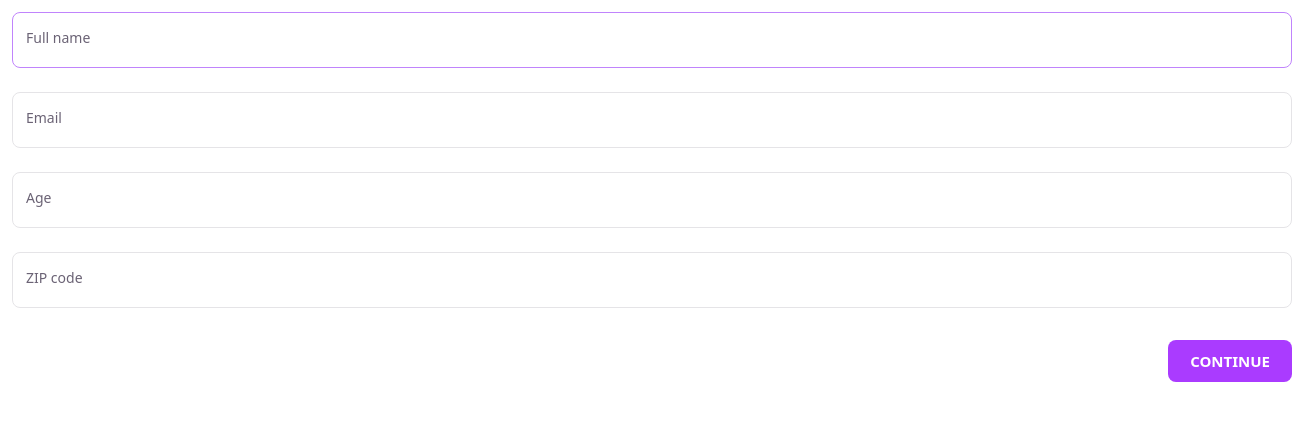
Scenario: PersonalForm › given_emptyName_when_blurred_then_showsValidationError
The image size is (1304, 422).
Click the field labelled "Full name". click: (652, 40)
box: x1=12 y1=12 x2=1292 y2=68
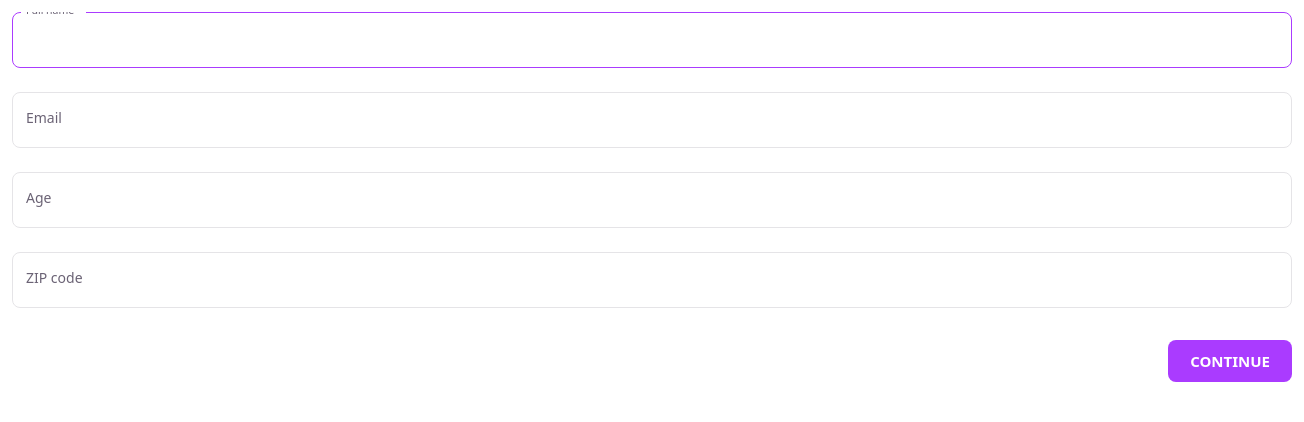
Press Tab
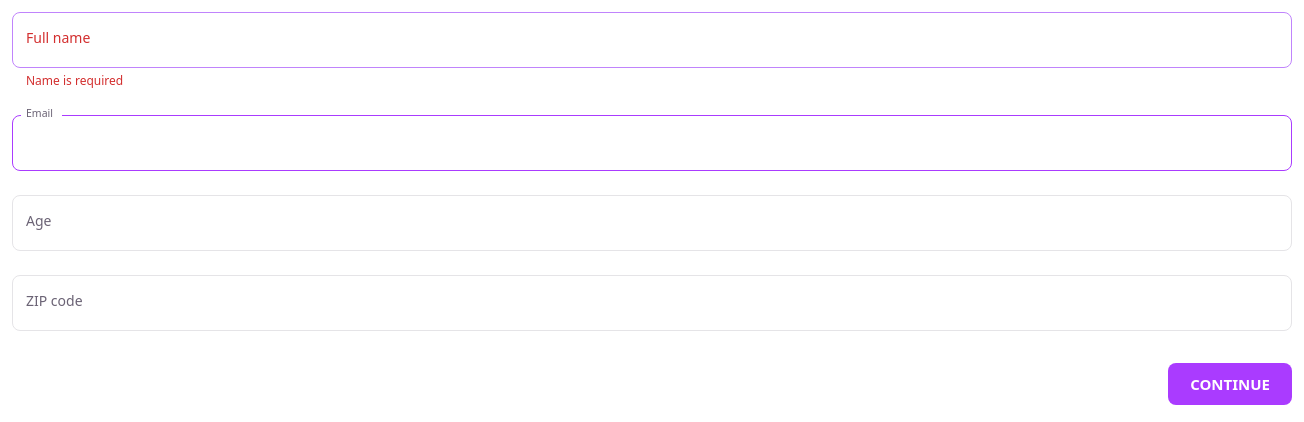
Expected: the text "Name is required" is shown, x1=26 y1=72 x2=123 y2=89
